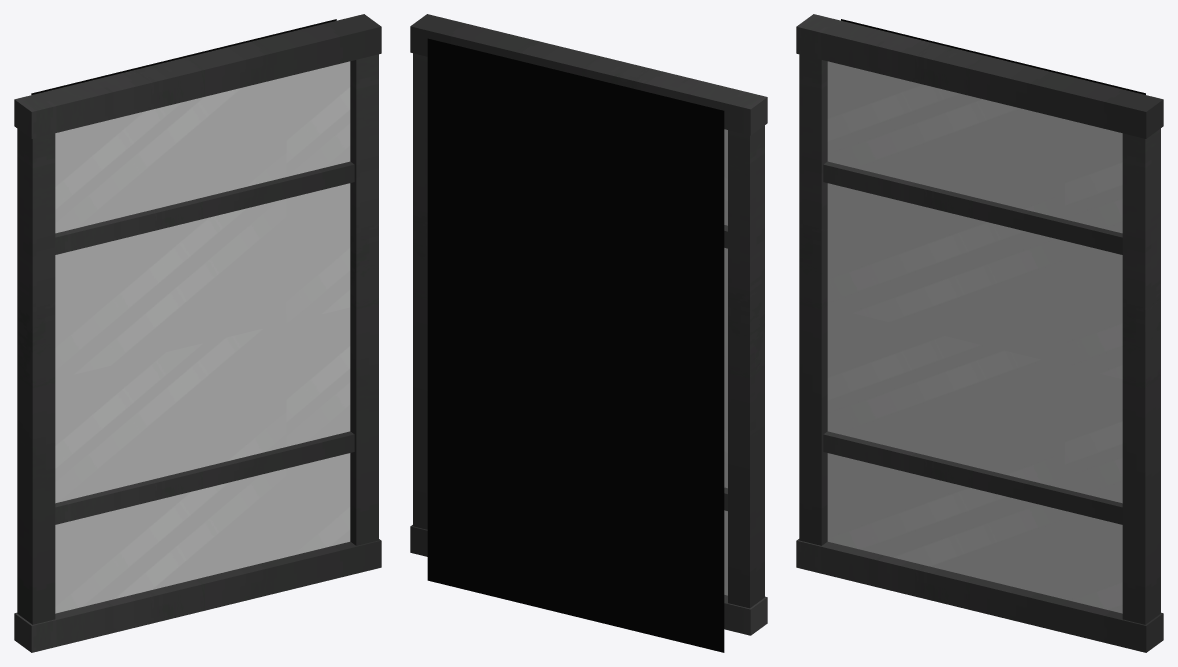
Rendered from Door.fbx.
The picture shows the model from 3 angles, left to right: view 1: azimuth 30°, elevation 25°; view 2: azimuth 150°, elevation 25°; view 3: azimuth 330°, elevation 25°; orthographic projection. The views are drawn at different scales.
Visible parts, largest first — view 1: Door, BlackNess (2); view 2: BlackNess (2), Door; view 3: Door, BlackNess (2).
Part boxes in pixels (bbox=[...]): Door: bbox=[14, 14, 381, 652]; BlackNess (2): bbox=[31, 19, 336, 94]; BlackNess (2): bbox=[427, 38, 724, 652]; Door: bbox=[410, 14, 767, 635]; Door: bbox=[796, 14, 1163, 652]; BlackNess (2): bbox=[841, 19, 1145, 94].
Size of the model in its own units: 1.96 by 3.01 by 0.2177.
